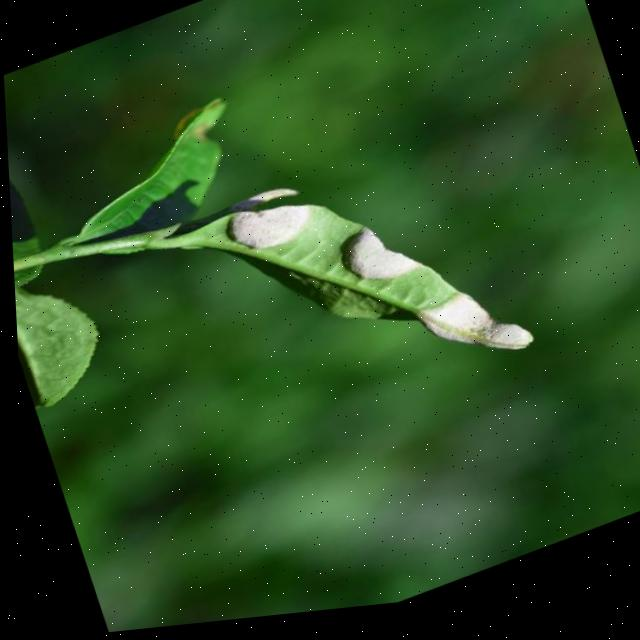Tea cake: (421, 281, 533, 393), (223, 177, 319, 273), (335, 210, 435, 299)
